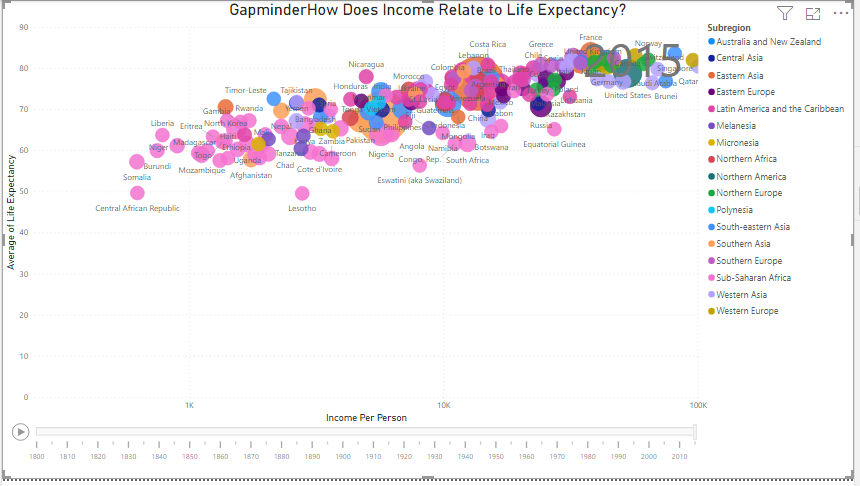

The page's visual inventory and layout, read from the dashboard file:
{"tool":"powerbi","page":{"name":"Page 1","canvas":[1280,720],"ordinal":0},"visuals":[{"type":"scatterChart","title":"GapminderHow Does Income Relate to Life Expectancy?","fields":{"Size":["Sum(gapminder.Population)"],"X":["Sum(gapminder.Income Per Person)"],"Y":["Avg(gapminder.Life Expectancy)"],"Play":["gapminder.Year"],"Category":["gapminder.Country"],"Series":["region.Subregion"]},"box":[0,0,1280,719.6],"z":0}]}

Visuals, with their boxes in screenshot pixels (x1, y1, x2, y2), scaled from the page's 1280x720 canvas onto the 860x486 screenshot:
"GapminderHow Does Income Relate to Life Expectancy?" scatterChart: 0:0:859:485
